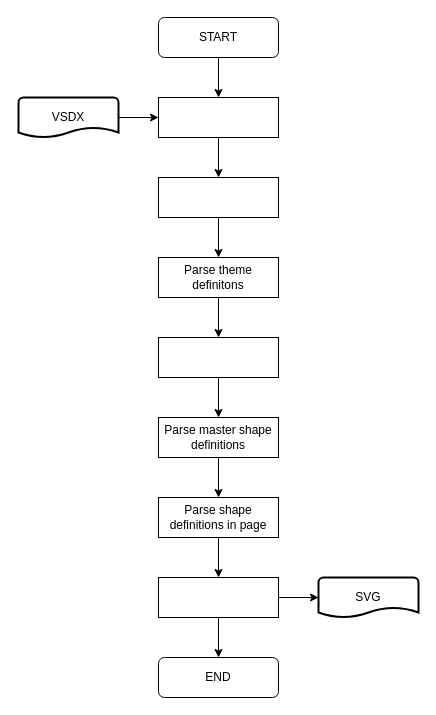
This 436x715 diagram has some shape labels left out. The box of each missing label's shape, as (x1, y1, x2, y2) in pixels:
Compile into SVG: (158, 576, 278, 618)
Decompress VSDX File: (158, 96, 278, 138)
Parse color definitions: (158, 176, 278, 218)
Parse stylesheet elements: (158, 336, 278, 378)
